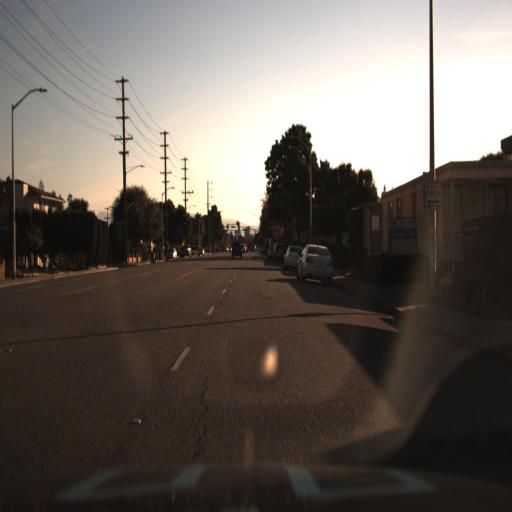car: (297, 242, 334, 280), (281, 244, 303, 272), (228, 239, 244, 264)
